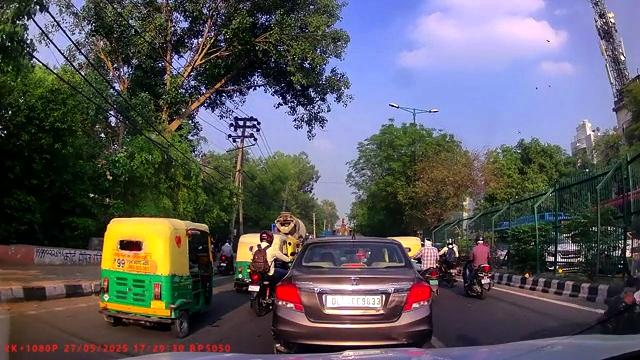motorcycle_with_helmet: (246, 230, 274, 315)
